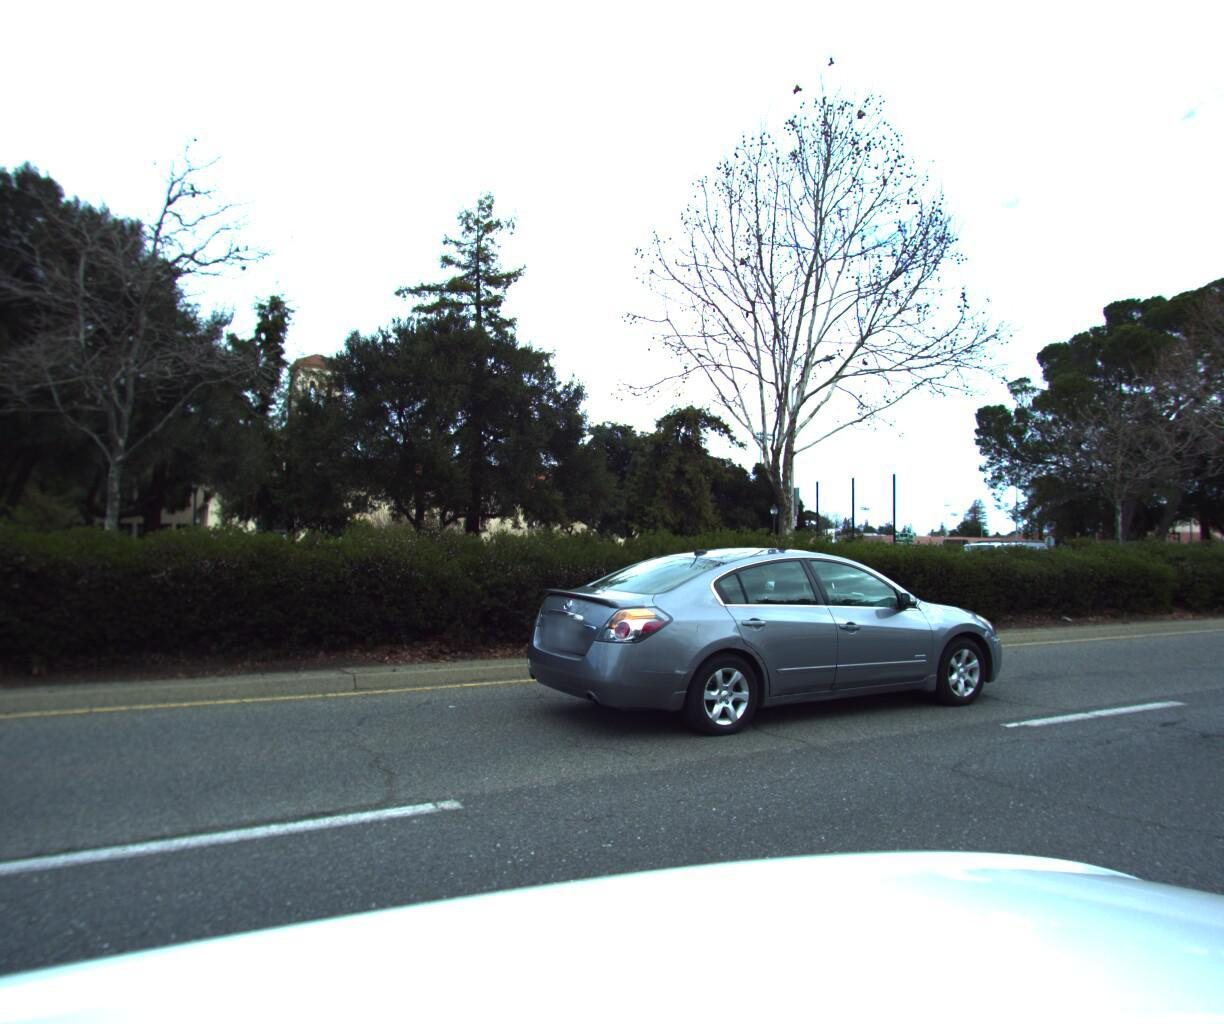car: (499, 551, 1011, 760), (951, 533, 1073, 585)
